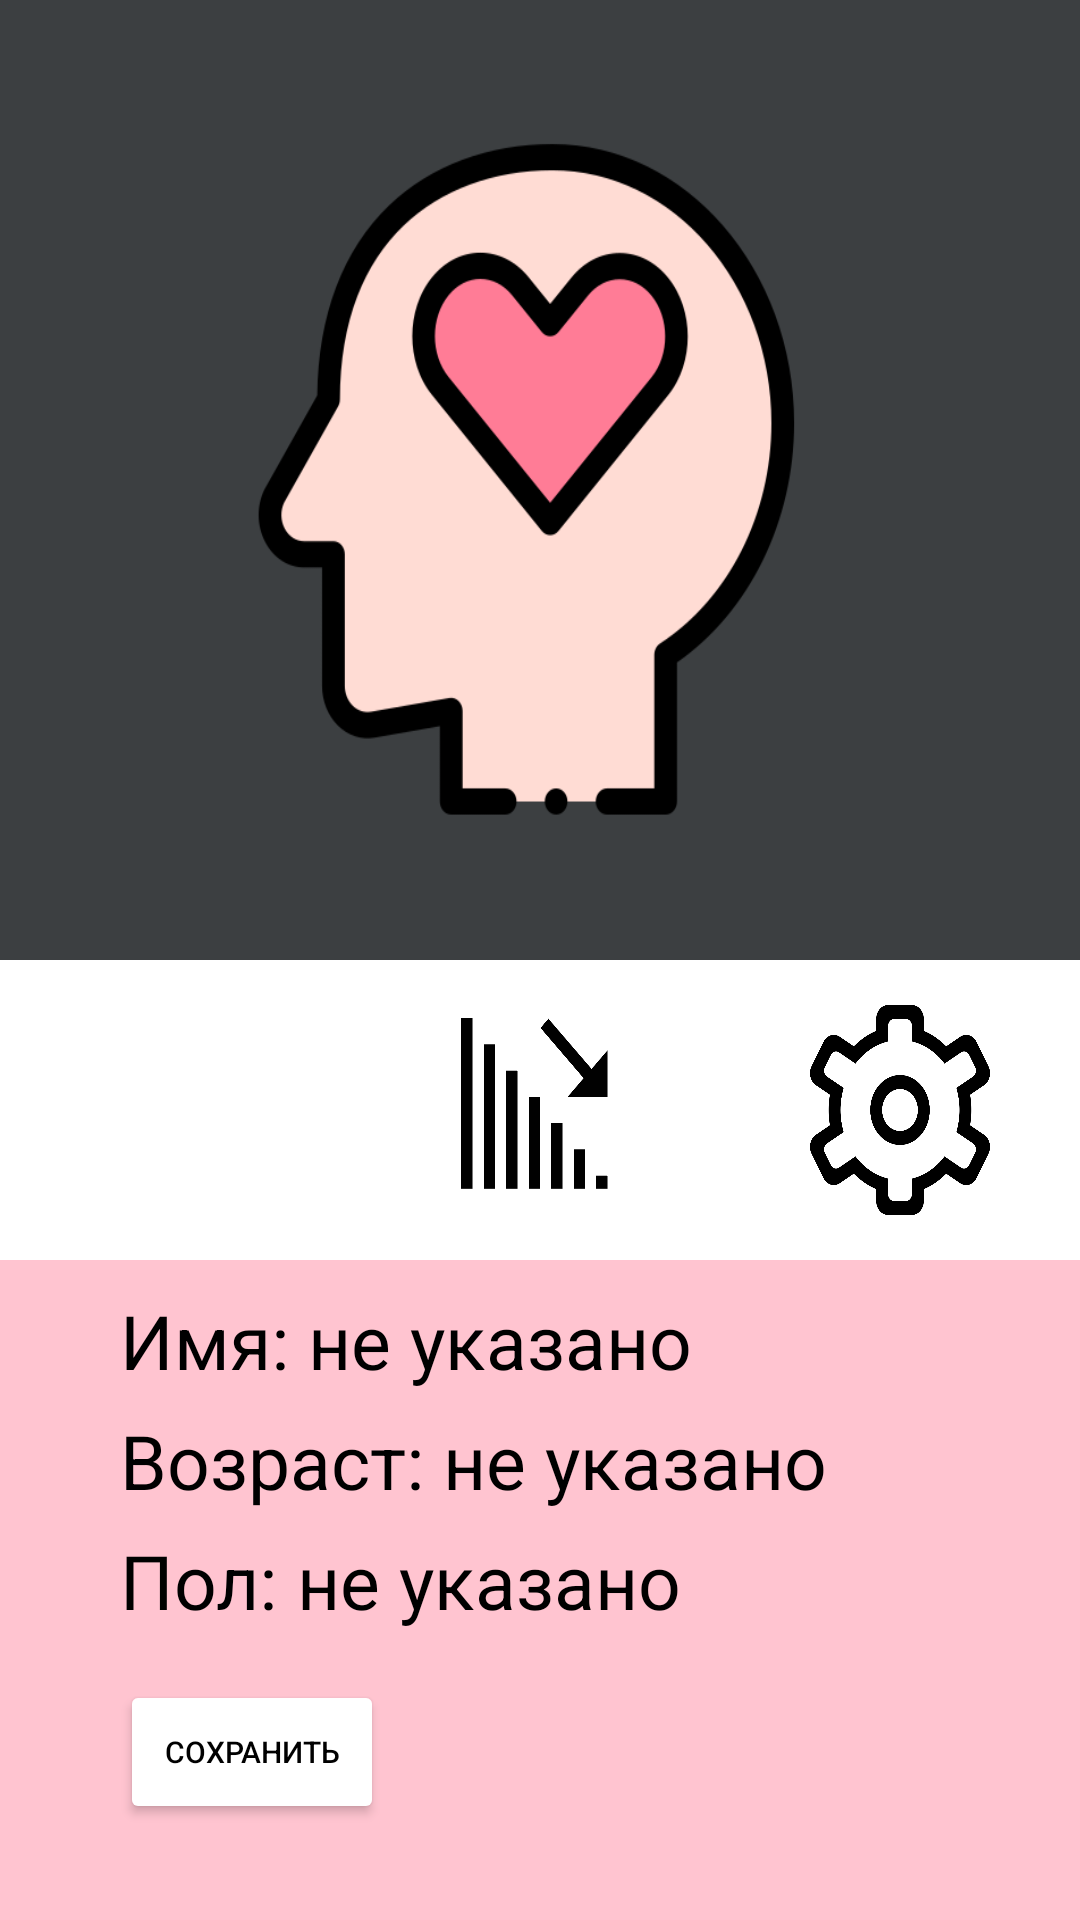

Icons on this 1080x1920 Android screen, each with its box as (x1, y1, x2, y2):
settings: (810, 1005, 990, 1215)
stat: (461, 1018, 608, 1189)
